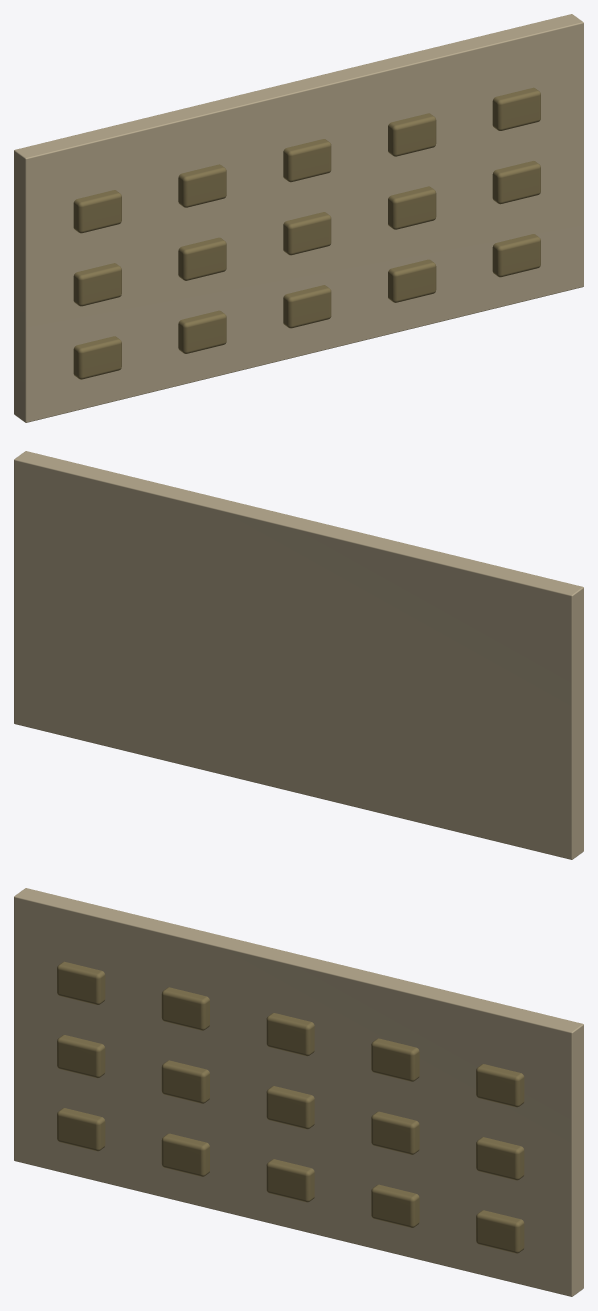
File: temple-relief.glb
3 views of the same model, one above another, from view 1: azimuth 30°, elevation 25°; view 2: azimuth 150°, elevation 25°; view 3: azimuth 330°, elevation 25° (orthographic).
Parts seen in each view (by area): view 1: temple-relief - Room Review mineral stone runtime PBR, temple-relief - Room Review trim runtime PBR; view 2: temple-relief - Room Review mineral stone runtime PBR; view 3: temple-relief - Room Review mineral stone runtime PBR, temple-relief - Room Review trim runtime PBR.
Boxes of the visible parts, x1,y1,x2,y2 form: temple-relief - Room Review mineral stone runtime PBR: [14, 14, 583, 422]; temple-relief - Room Review trim runtime PBR: [73, 87, 540, 379]; temple-relief - Room Review mineral stone runtime PBR: [14, 451, 583, 859]; temple-relief - Room Review mineral stone runtime PBR: [14, 888, 583, 1296]; temple-relief - Room Review trim runtime PBR: [57, 961, 524, 1253].
Bounding box in the file's own units: 3.2 × 1.45 × 0.18.
